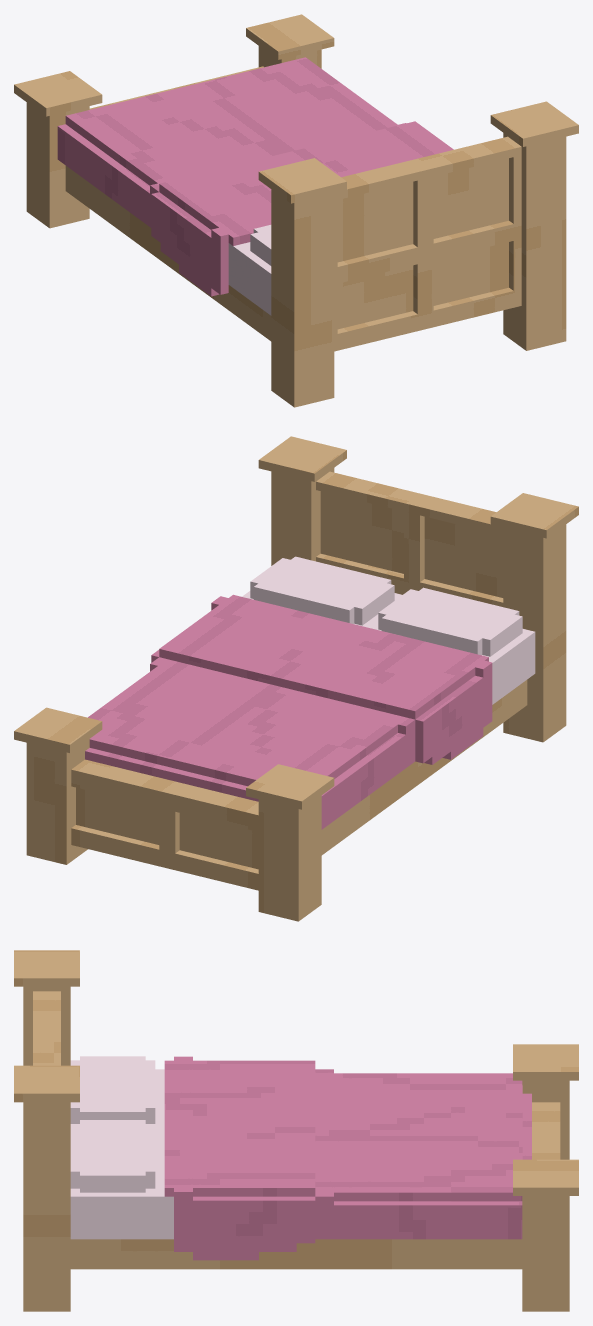
Rendered from Bed.fbx.
3 views of the same model, one above another, from view 1: azimuth 30°, elevation 25°; view 2: azimuth 150°, elevation 25°; view 3: azimuth 270°, elevation 25° (orthographic).
Visible parts, largest first — view 1: Polygon; view 2: Polygon; view 3: Polygon.
Part boxes in pixels (x1,y1,x2,y2): Polygon: (14,14,578,407); Polygon: (14,436,578,921); Polygon: (14,950,578,1311).
Bounding box in the file's own units: 162 × 117 × 271.
1 material, 1 textured.
